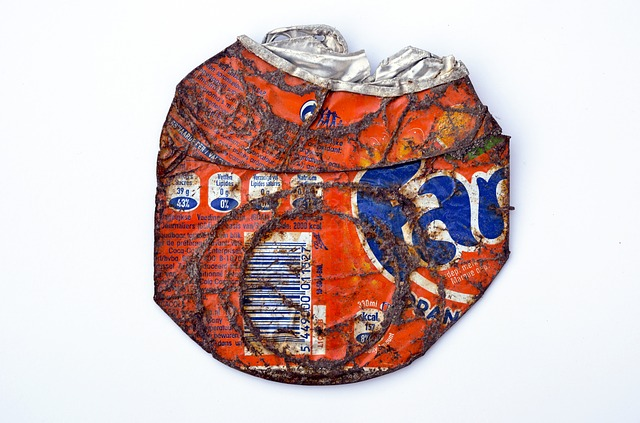can: (136, 11, 532, 404)
